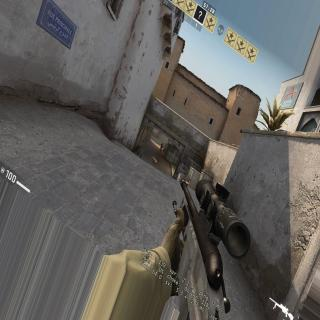T-Body: (138, 139, 147, 158), (160, 142, 163, 152)
T-Head: (143, 139, 145, 143), (162, 142, 164, 145)
